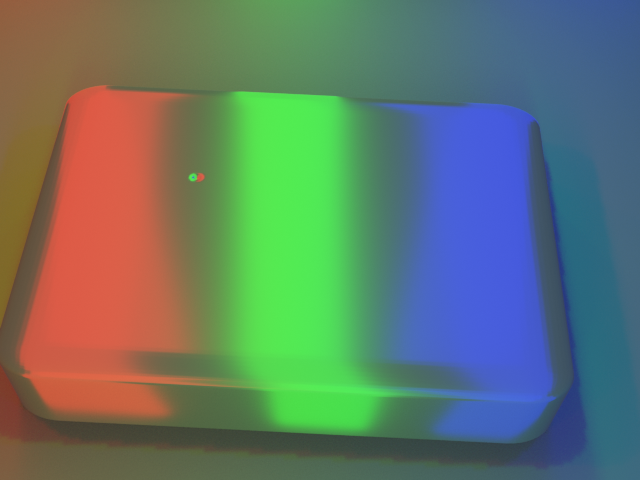dent: (164, 155, 203, 188)
